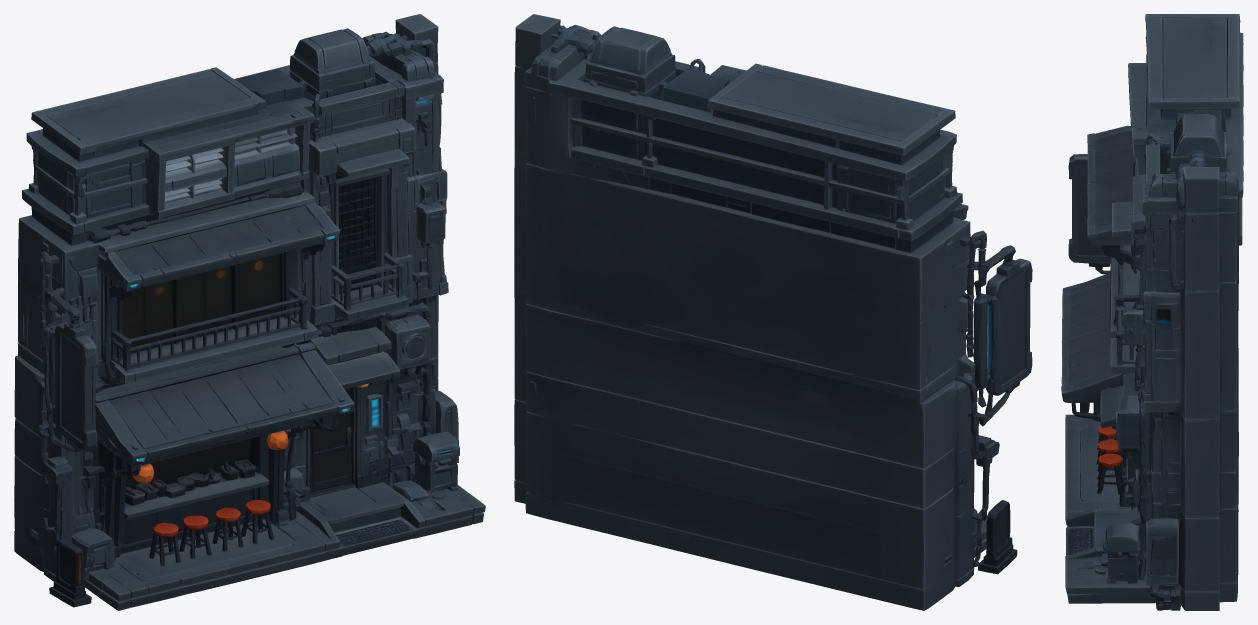
File: source.glb
The picture shows the model from 3 angles, left to right: view 1: azimuth 30°, elevation 25°; view 2: azimuth 150°, elevation 25°; view 3: azimuth 270°, elevation 25°; orthographic projection. The views are drawn at different scales.
Visible parts, largest first — view 1: model; view 2: model; view 3: model.
Boxes of the visible parts, left/top/right/bottom form: model: left=14, top=14, right=485, bottom=610; model: left=514, top=14, right=1032, bottom=610; model: left=1061, top=14, right=1243, bottom=610.
Size of the model in its own units: 1.82 by 1.9 by 0.7116.
Materials: 1 (1 with a texture image).
